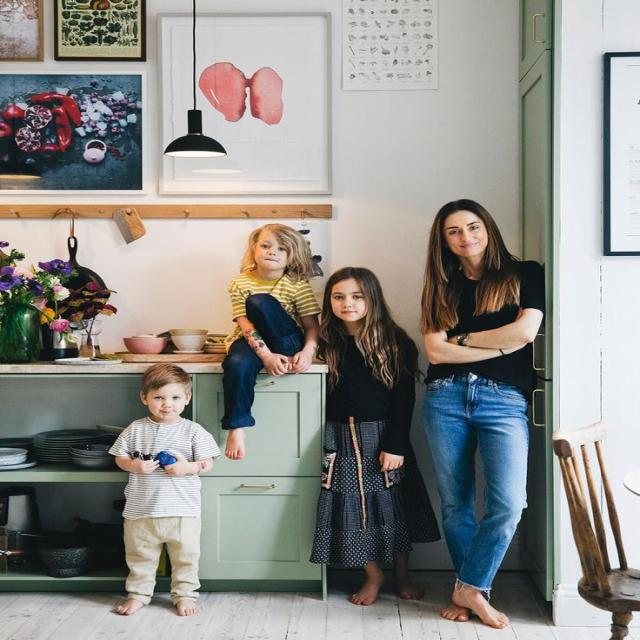obstacle: (0, 349, 330, 599), (551, 420, 639, 639)
person: (418, 198, 546, 629), (309, 266, 441, 605), (107, 362, 221, 616), (219, 222, 322, 460)
